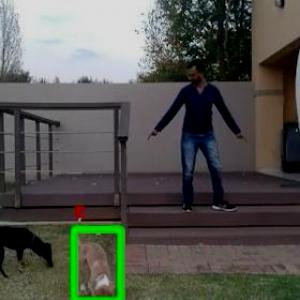land: (157, 58, 244, 222)
